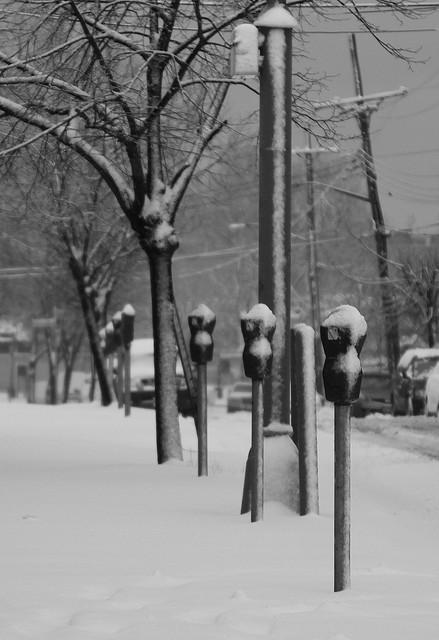car: (130, 338, 194, 418), (389, 346, 439, 416), (350, 369, 394, 420), (226, 382, 256, 416)
